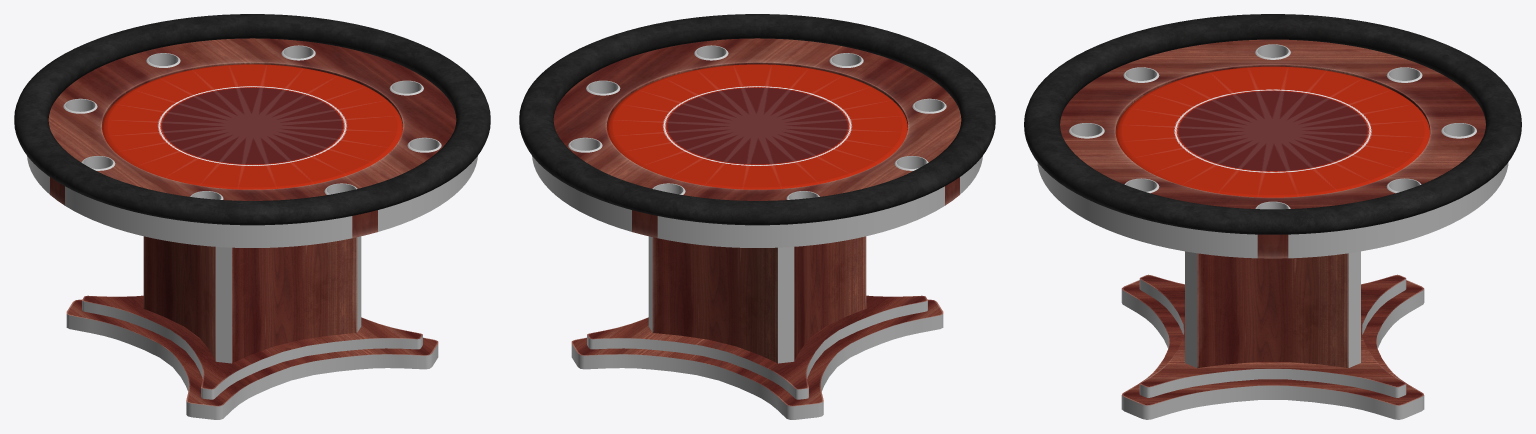
3 renders of one model, left to right at view 1: azimuth 30°, elevation 25°; view 2: azimuth 150°, elevation 25°; view 3: azimuth 270°, elevation 25°, orthographic. The views are drawn at different scales.
Visible parts, largest first — view 1: Base_1; view 2: Base_1; view 3: Base_1.
Boxes of the visible parts, x1=… form: Base_1: x1=14, y1=14, x2=490, y2=419; Base_1: x1=519, y1=14, x2=995, y2=419; Base_1: x1=1024, y1=14, x2=1521, y2=419.
Bounding box in the file's own units: 150 × 80.12 × 150.
Materials: 4 (4 with a texture image).
